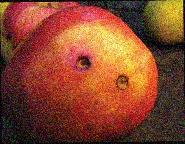rotten apple: (1, 2, 160, 141)
